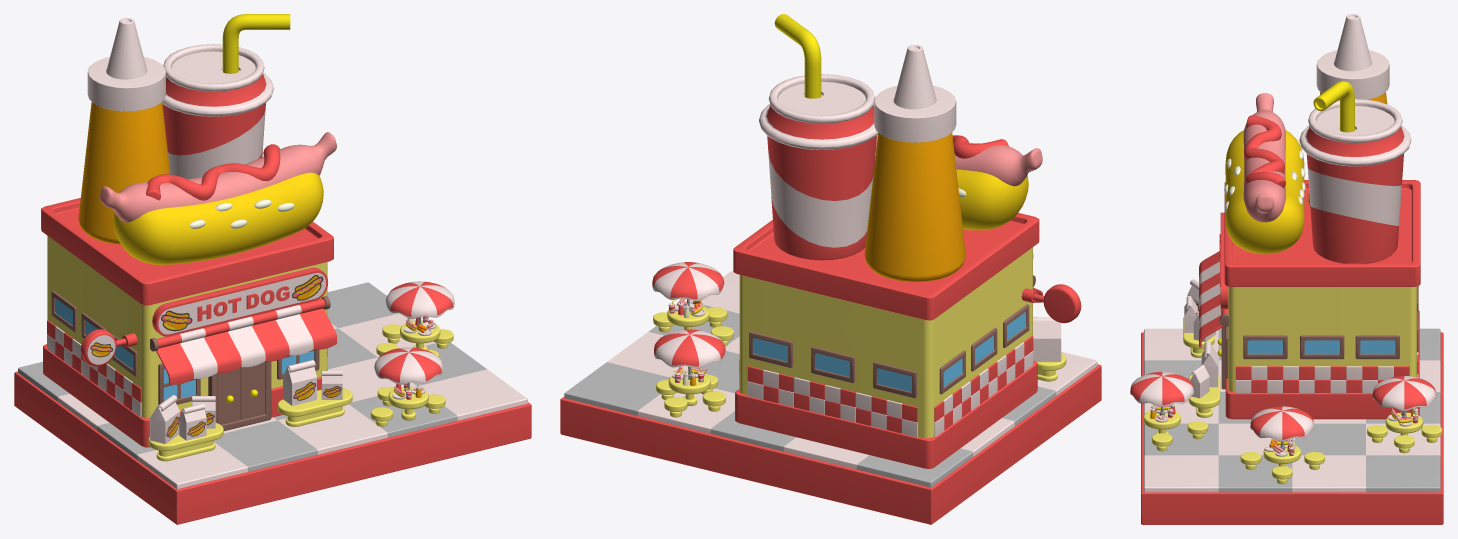
Rendered from Store_Island_12.glb.
3 renders of one model, left to right at view 1: azimuth 30°, elevation 25°; view 2: azimuth 150°, elevation 25°; view 3: azimuth 270°, elevation 25°, orthographic. The views are drawn at different scales.
Visible parts, largest first — view 1: Store_12_Base_1, Store_12_Hot_Dog_Shop_1, Store_12_Big_Hot_Dog_1, Store_12_Drink_1, Store_12_Mustard_2, Store_12_Hot_Dog_Sign_1, Store_12_Umbrella_2, Store_12_Umbrella_3, Store_12_Shelf_1, Store_12_Shelf_2, Store_12_Food_Package_3, Store_12_Hot_Dog_Sign_2 (+4 smaller); view 2: Store_12_Hot_Dog_Shop_1, Store_12_Base_1, Store_12_Drink_1, Store_12_Mustard_2, Store_12_Big_Hot_Dog_1, Store_12_Umbrella_1, Store_12_Umbrella_2, Store_12_Hot_Dog_Sign_2, Store_12_Food_Package_1, Store_12_Table_1; view 3: Store_12_Hot_Dog_Shop_1, Store_12_Base_1, Store_12_Drink_1, Store_12_Big_Hot_Dog_1, Store_12_Mustard_2, Store_12_Umbrella_1, Store_12_Umbrella_3, Store_12_Umbrella_2, Store_12_Shelf_1, Store_12_Hot_Dog_Sign_1, Store_12_Food_Package_3, Store_12_Table_3 (+5 smaller).
Boxes of the visible parts, bbox=[...] form: Store_12_Base_1: bbox=[14, 282, 531, 524]; Store_12_Hot_Dog_Shop_1: bbox=[41, 198, 337, 447]; Store_12_Big_Hot_Dog_1: bbox=[100, 132, 336, 264]; Store_12_Drink_1: bbox=[162, 14, 290, 179]; Store_12_Mustard_2: bbox=[78, 18, 170, 244]; Store_12_Hot_Dog_Sign_1: bbox=[152, 267, 328, 336]; Store_12_Umbrella_2: bbox=[385, 281, 454, 325]; Store_12_Umbrella_3: bbox=[374, 347, 442, 390]; Store_12_Shelf_1: bbox=[277, 388, 352, 426]; Store_12_Shelf_2: bbox=[148, 423, 223, 461]; Store_12_Food_Package_3: bbox=[283, 360, 316, 405]; Store_12_Hot_Dog_Sign_2: bbox=[80, 329, 137, 366]; Store_12_Hot_Dog_Shop_1: bbox=[733, 213, 1042, 468]; Store_12_Base_1: bbox=[560, 271, 1101, 524]; Store_12_Drink_1: bbox=[759, 14, 878, 260]; Store_12_Mustard_2: bbox=[864, 45, 965, 282]; Store_12_Big_Hot_Dog_1: bbox=[875, 134, 1042, 230]; Store_12_Umbrella_1: bbox=[654, 329, 725, 379]; Store_12_Umbrella_2: bbox=[652, 262, 724, 312]; Store_12_Hot_Dog_Sign_2: bbox=[1021, 284, 1081, 323]; Store_12_Food_Package_1: bbox=[1033, 317, 1061, 361]; Store_12_Table_1: bbox=[668, 370, 710, 405]; Store_12_Hot_Dog_Shop_1: bbox=[1199, 180, 1420, 419]; Store_12_Base_1: bbox=[1141, 328, 1443, 524]; Store_12_Drink_1: bbox=[1299, 81, 1411, 263]; Store_12_Big_Hot_Dog_1: bbox=[1224, 93, 1305, 254]; Store_12_Mustard_2: bbox=[1308, 14, 1389, 208]; Store_12_Umbrella_1: bbox=[1372, 376, 1436, 418]; Store_12_Umbrella_3: bbox=[1130, 372, 1193, 415]; Store_12_Umbrella_2: bbox=[1250, 406, 1314, 449]; Store_12_Shelf_1: bbox=[1188, 375, 1220, 417]; Store_12_Hot_Dog_Sign_1: bbox=[1219, 212, 1228, 309]; Store_12_Food_Package_3: bbox=[1201, 341, 1218, 387]; Store_12_Table_3: bbox=[1143, 410, 1180, 434].
Bounding box in the file's own units: 16.6 × 16.41 × 12.37.
59 materials, 59 textured.
